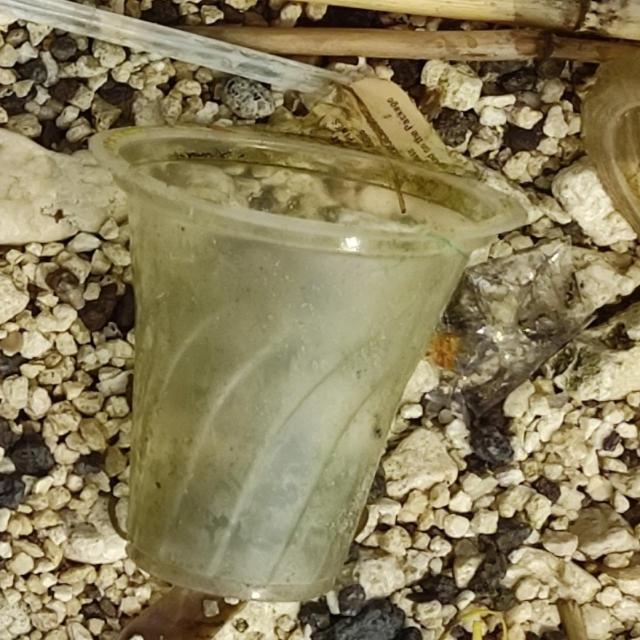plastic_waste: (86, 121, 536, 607)
